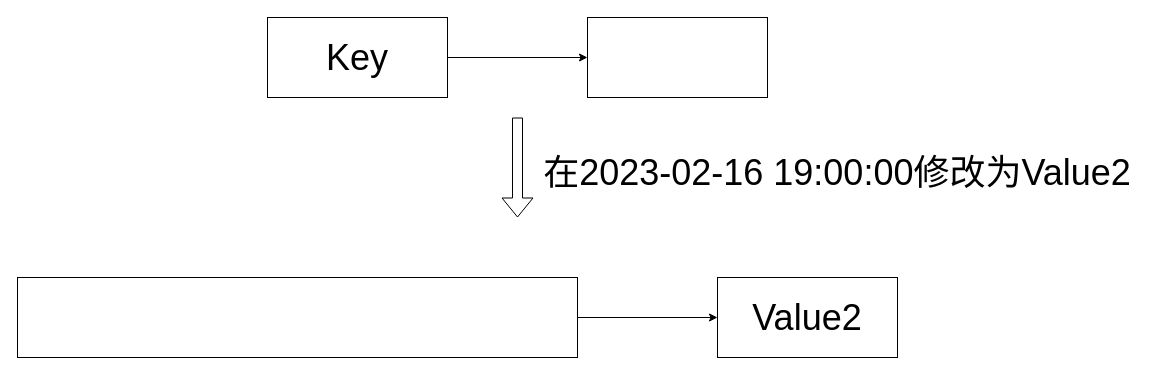
The diagram is 1155 pixels wide and 375 high, and some of its shapes have lost their labels. The centre of each missing label's shape, as x and y in pixels:
"Key-1676545200" belongs at (x=297, y=317).
"Value1" belongs at (x=677, y=57).
